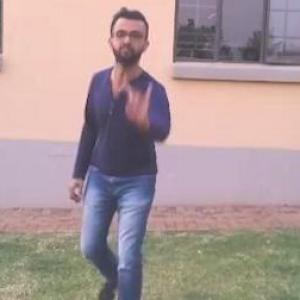takeoff-hand: (117, 62, 158, 127)
